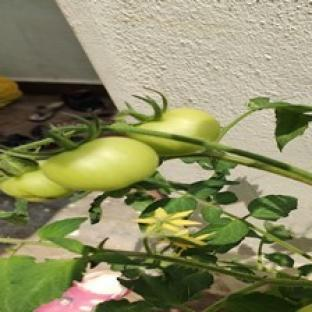Tomato: (42, 137, 158, 190), (137, 108, 220, 142), (0, 169, 72, 201), (297, 304, 311, 311)
